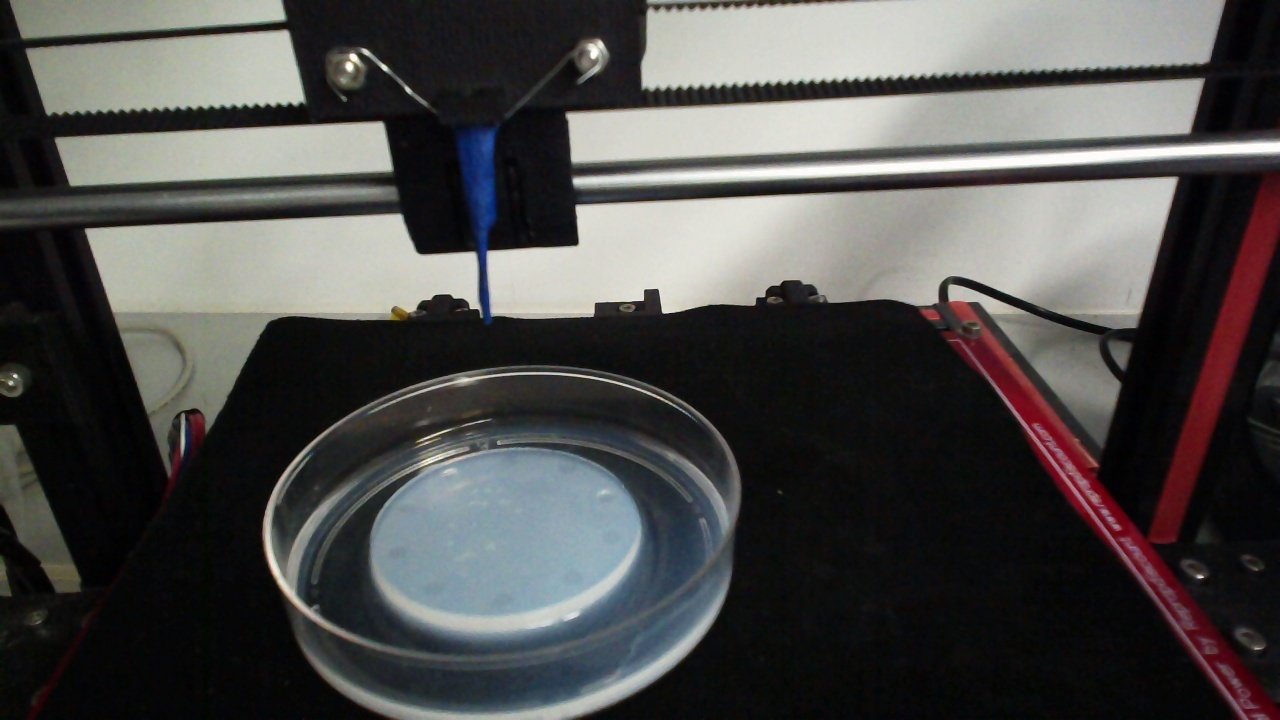groove: (598, 528, 622, 545), (419, 579, 444, 595), (555, 459, 577, 476), (560, 571, 584, 586), (498, 452, 519, 469), (594, 488, 616, 504), (395, 500, 418, 515), (490, 591, 513, 606), (387, 546, 409, 559), (441, 468, 458, 482)
needle: (455, 133, 495, 331)
